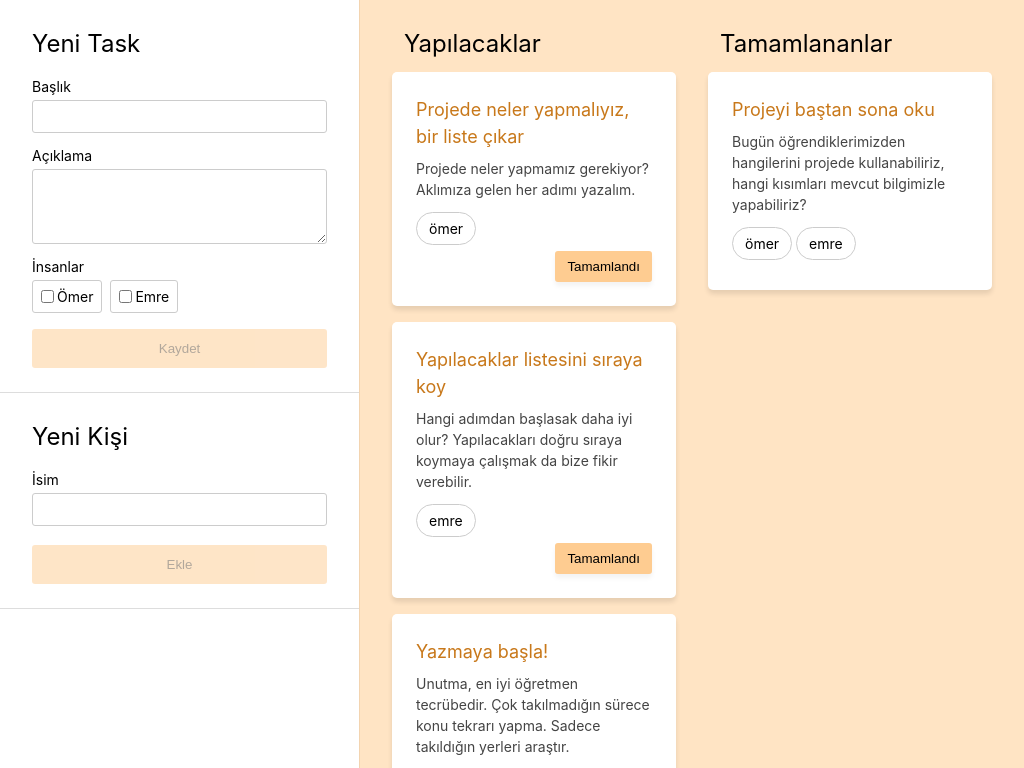
1.1.2 Başlık alanına yazılanlar silinince hata mesajı doğru metinle çıkıyor.
Step 1. Type "Em" into the field labelled "Başlık" → [180, 116], box left=32, top=100, right=327, bottom=133
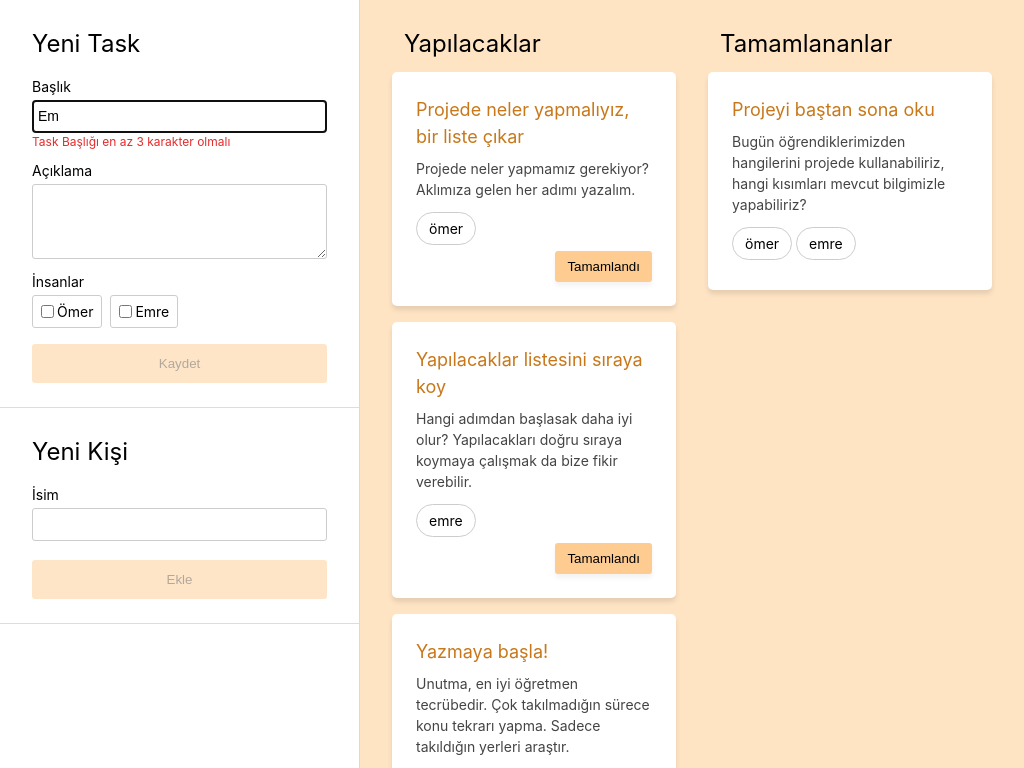
Step 2. Clear the field labelled "Başlık" → [180, 116], box left=32, top=100, right=327, bottom=133
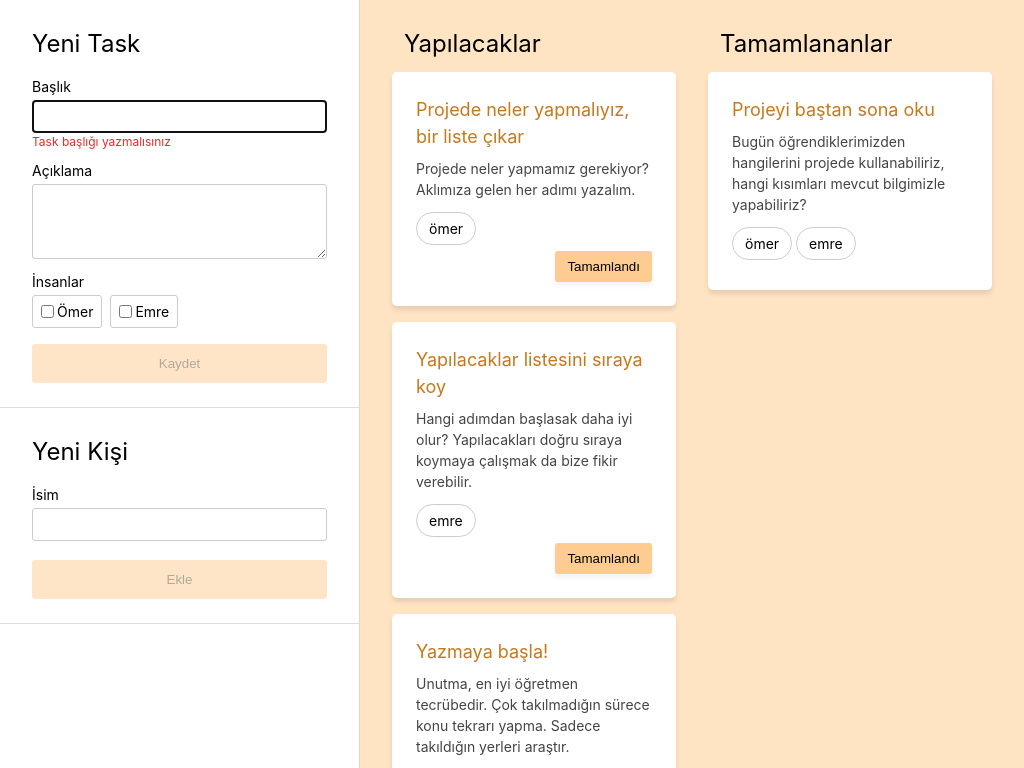
Check: the text "Task başlığı yazmalısınız" is shown, box left=32, top=134, right=171, bottom=149
